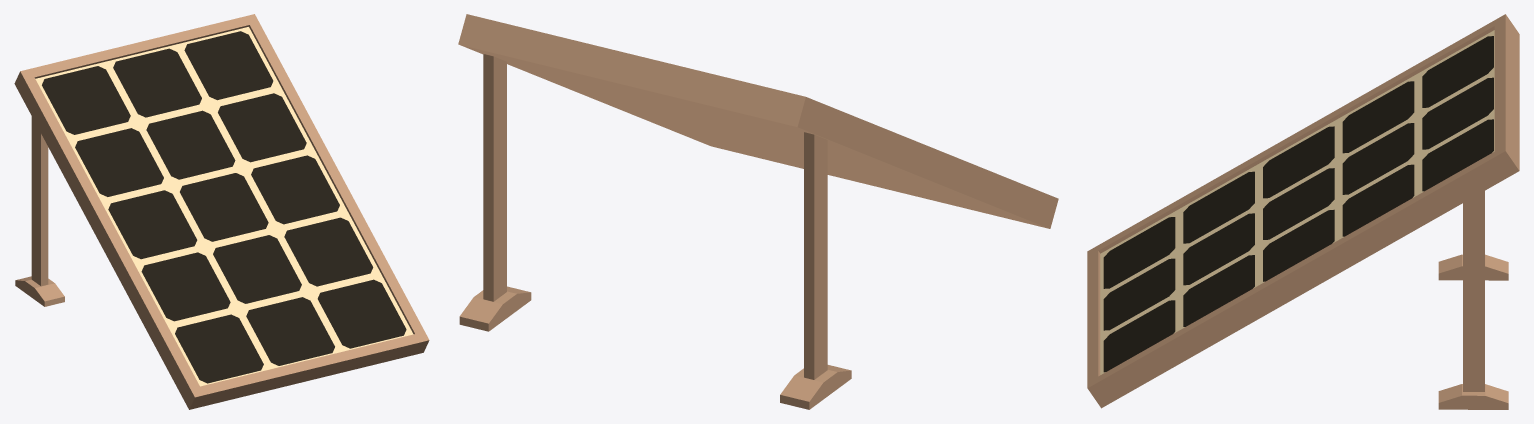
File: solarpanel_ground.glb
The picture shows the model from 3 angles, left to right: view 1: azimuth 30°, elevation 25°; view 2: azimuth 150°, elevation 25°; view 3: azimuth 270°, elevation 25°; orthographic projection. The views are drawn at different scales.
Parts seen in each view (by area): view 1: SolarPanel_Ground; view 2: SolarPanel_Ground; view 3: SolarPanel_Ground.
Part boxes in pixels (x1,y1,x2,y2): SolarPanel_Ground: [14, 14, 429, 409]; SolarPanel_Ground: [458, 14, 1058, 409]; SolarPanel_Ground: [1087, 14, 1519, 409].
Bounding box in the file's own units: 1.29 × 1.1 × 1.67.
Materials: 1 (1 with a texture image).
